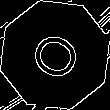O_SE: (22, 24, 88, 86)
